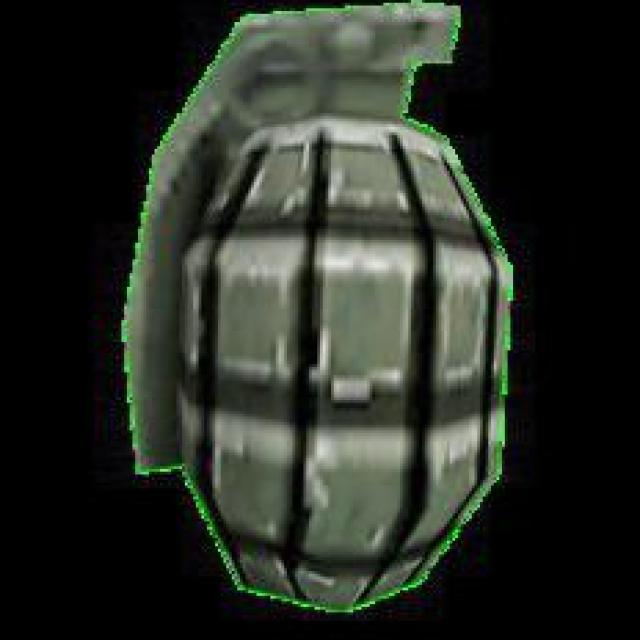grenade: (128, 4, 513, 610)
